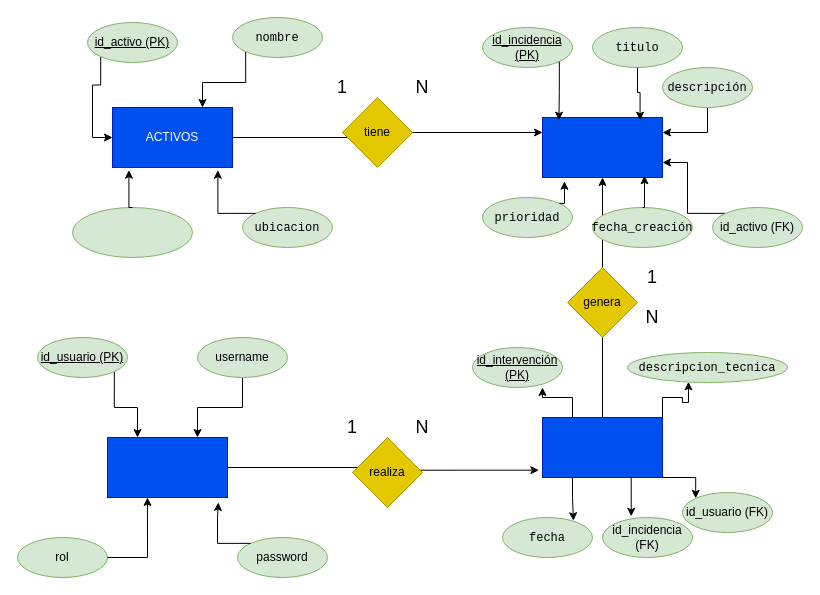
The diagram is 820 pixels wide and 595 high, and some of its shapes have lost their labels. Each missing label, with the centre of its shape:
"estado_operativo" belongs at pixel 132 232.
"INCIDENCIAS" belongs at pixel 602 147.
"INTERVENCIONES" belongs at pixel 602 447.
"USUARIOS" belongs at pixel 167 467.
